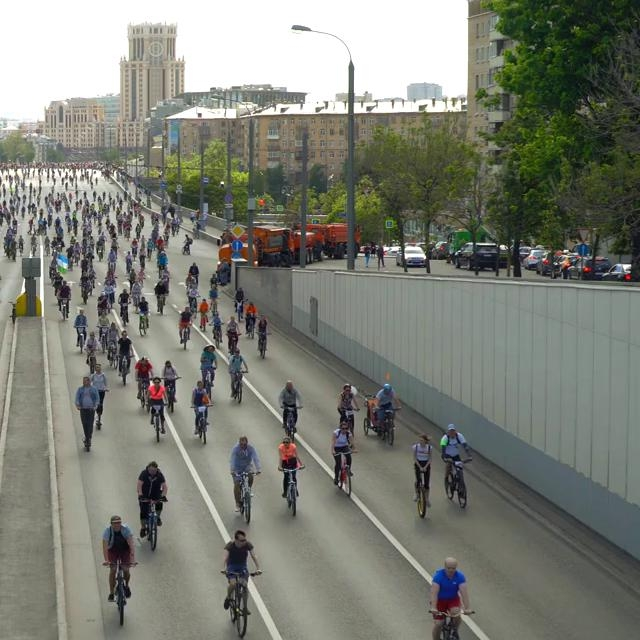bicycle: (220, 569, 262, 638), (102, 559, 137, 626), (138, 497, 167, 551), (231, 470, 260, 524), (442, 456, 472, 508), (427, 607, 475, 639), (278, 465, 304, 516), (332, 449, 356, 497), (412, 462, 431, 518), (357, 390, 380, 435), (79, 404, 101, 451), (189, 404, 213, 444), (376, 408, 399, 446), (281, 405, 302, 443), (161, 376, 181, 413), (148, 404, 166, 442), (228, 369, 248, 403), (338, 406, 359, 437), (93, 389, 109, 429), (200, 361, 216, 397), (135, 377, 152, 409), (116, 353, 131, 385), (85, 345, 98, 373), (178, 322, 191, 350), (256, 331, 269, 358), (226, 331, 240, 355), (137, 310, 149, 336), (74, 326, 86, 352), (118, 301, 130, 326), (106, 340, 117, 367), (57, 297, 69, 319), (155, 293, 166, 315), (245, 316, 256, 338), (212, 324, 222, 346)
